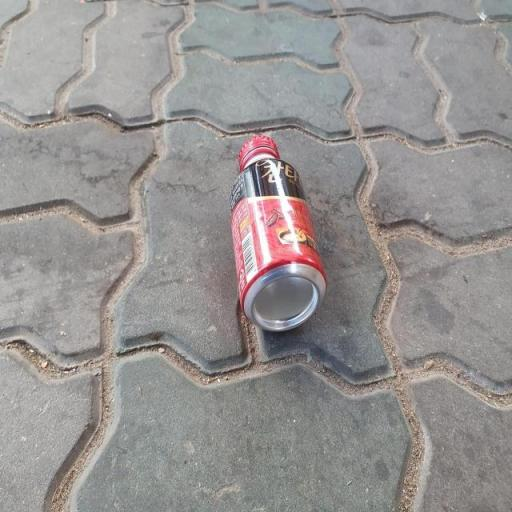metal: (212, 131, 340, 351)
